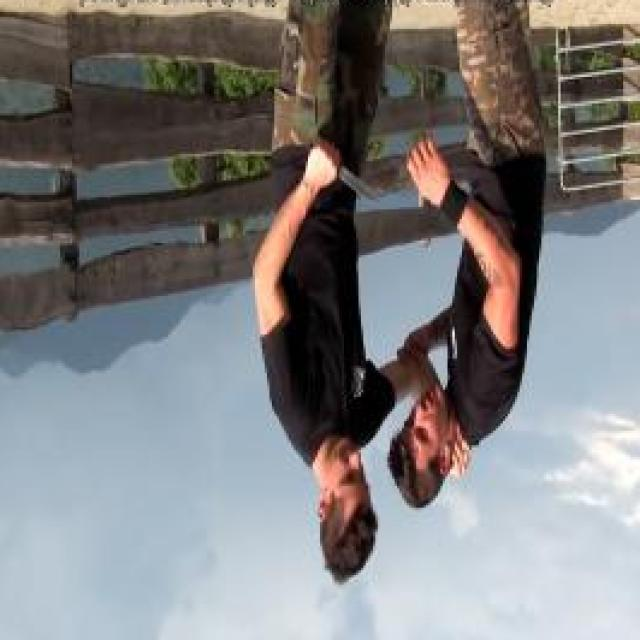knife: (308, 134, 383, 212)
